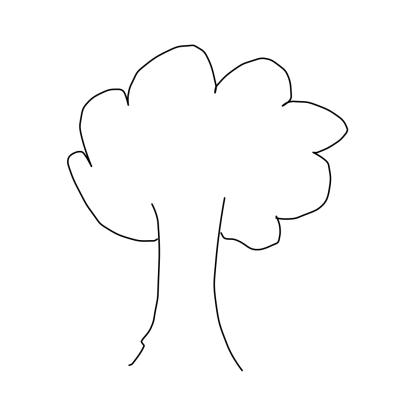crown_cloud: (70, 45, 348, 250)
trunk_straight: (154, 243, 221, 321)
